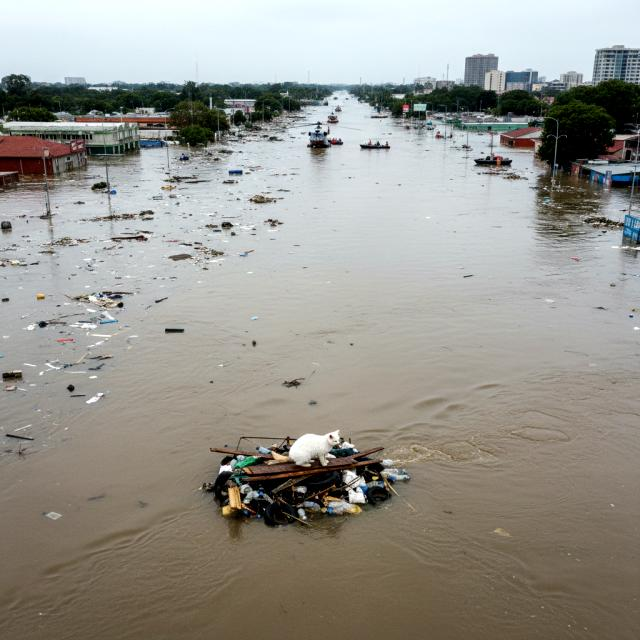cat: (258, 428, 356, 472)
